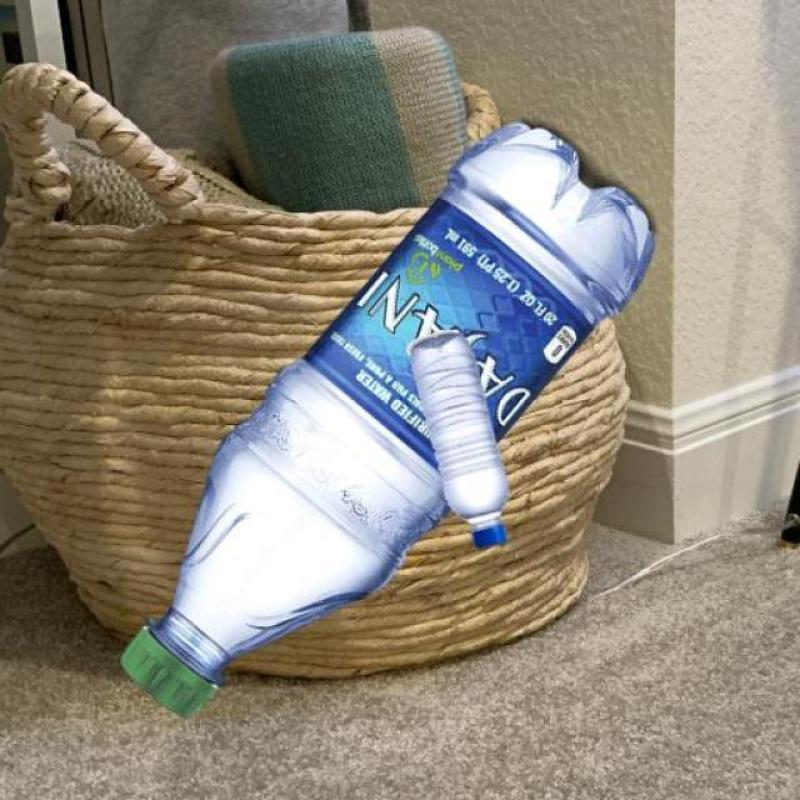botella: (117, 123, 655, 718), (408, 333, 514, 553)
